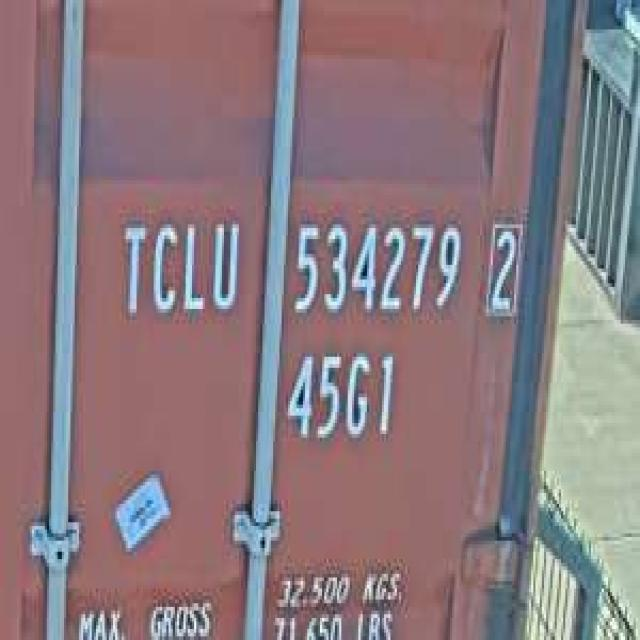dv: (482, 210, 525, 324)
owner: (115, 206, 243, 331)
serial: (286, 206, 465, 327)
size: (280, 338, 401, 452)
